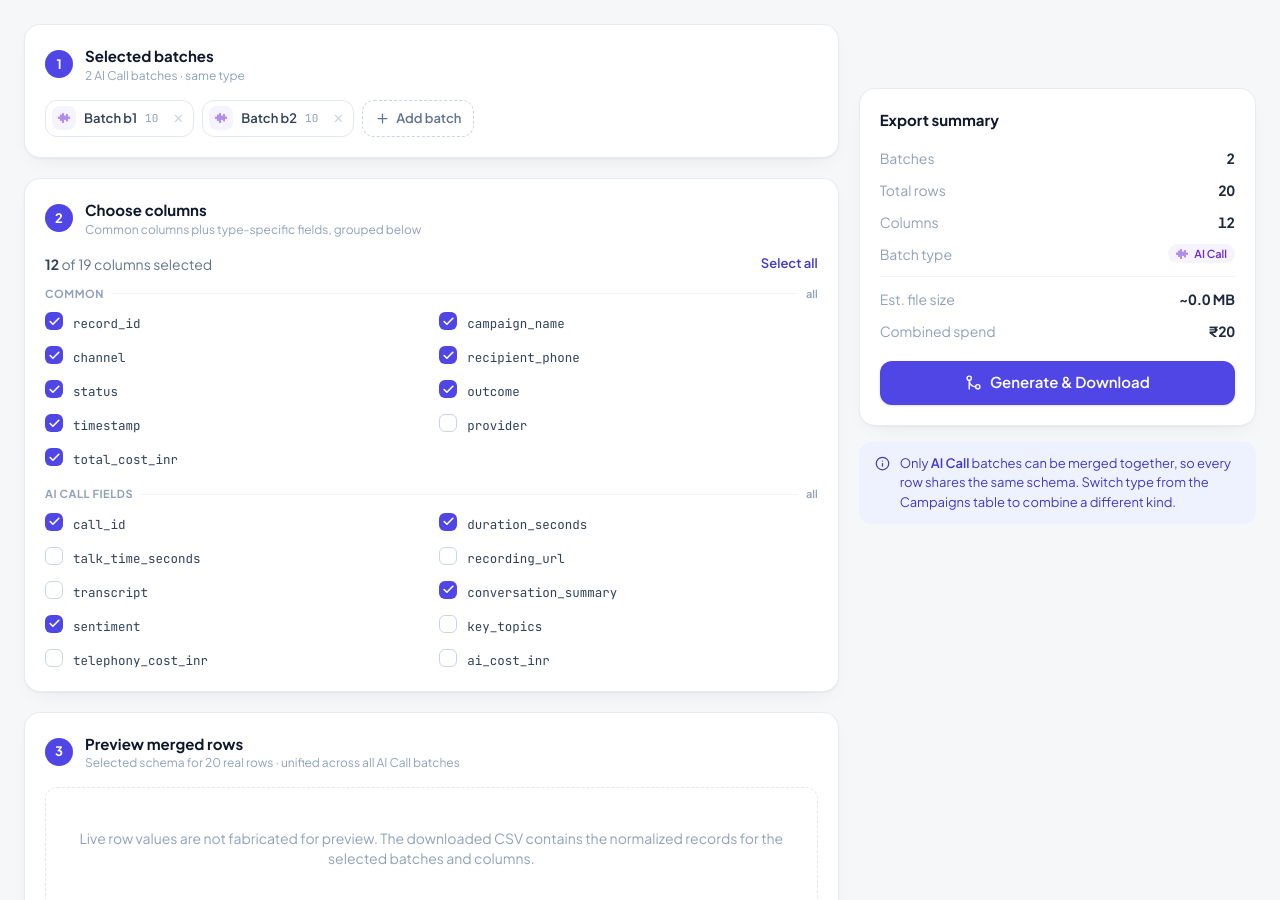
it: CombineScreen — completed download flow › labels a finished merge with the rows the CSV actually holds
Click the button "Generate & Download" at coordinates (1057, 382), box [880, 360, 1235, 404]
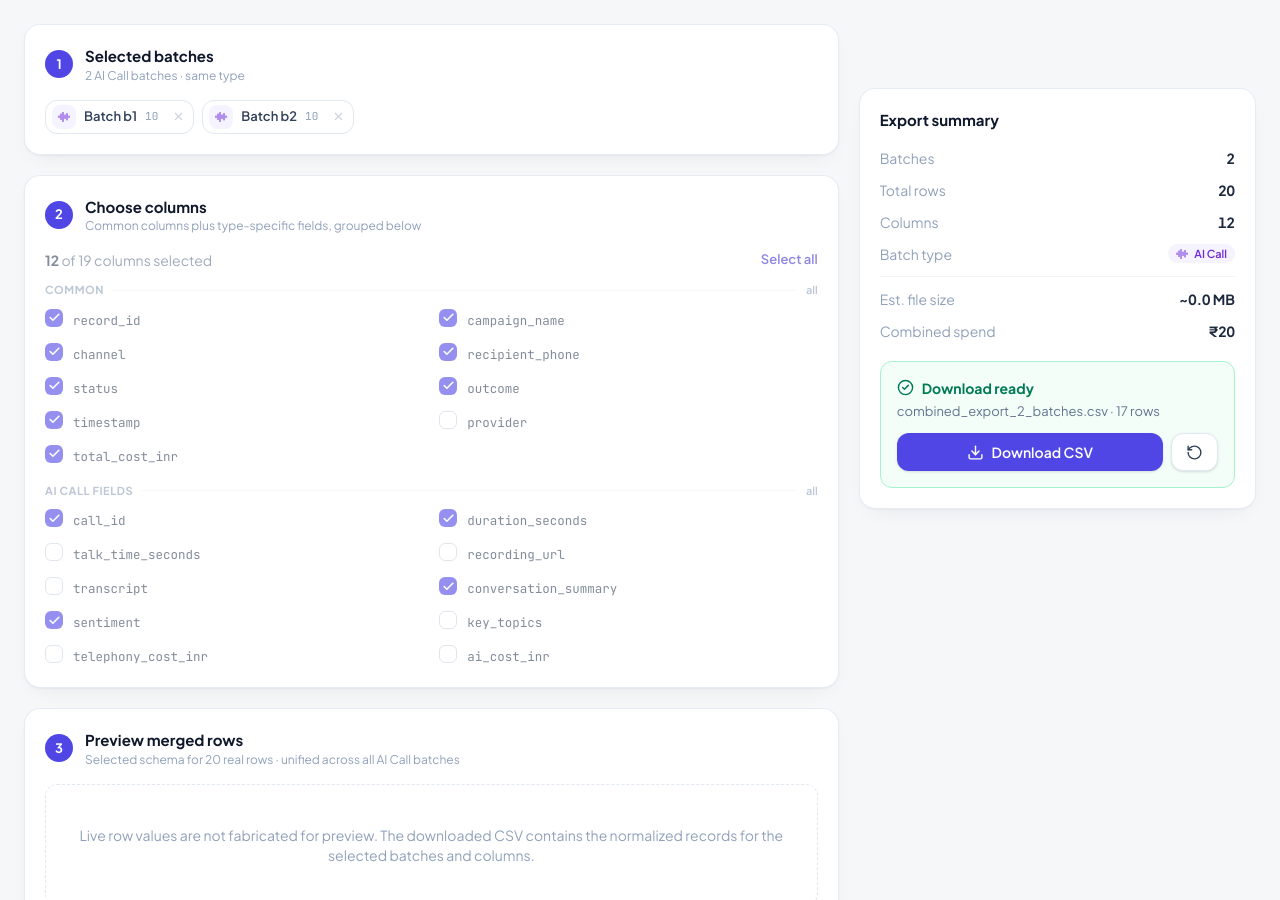
Now the text "combined_export_2_batches.csv · 17 rows" is shown, box [897, 402, 1160, 418]
